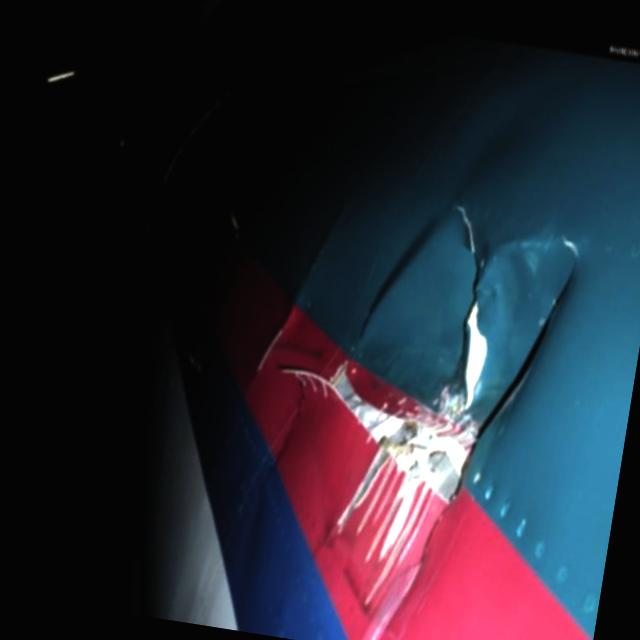crack: (422, 198, 512, 414)
dent: (360, 193, 454, 349), (490, 247, 550, 335), (476, 324, 521, 408)
